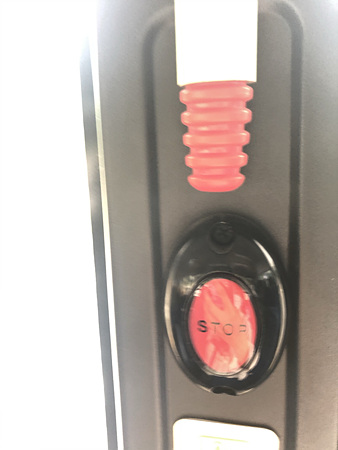bell: (161, 214, 288, 395)
